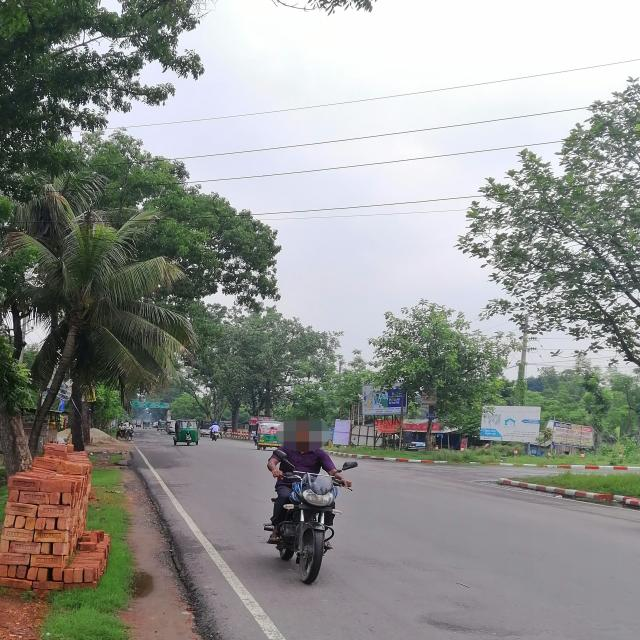Motorbike: (254, 450, 362, 590)
